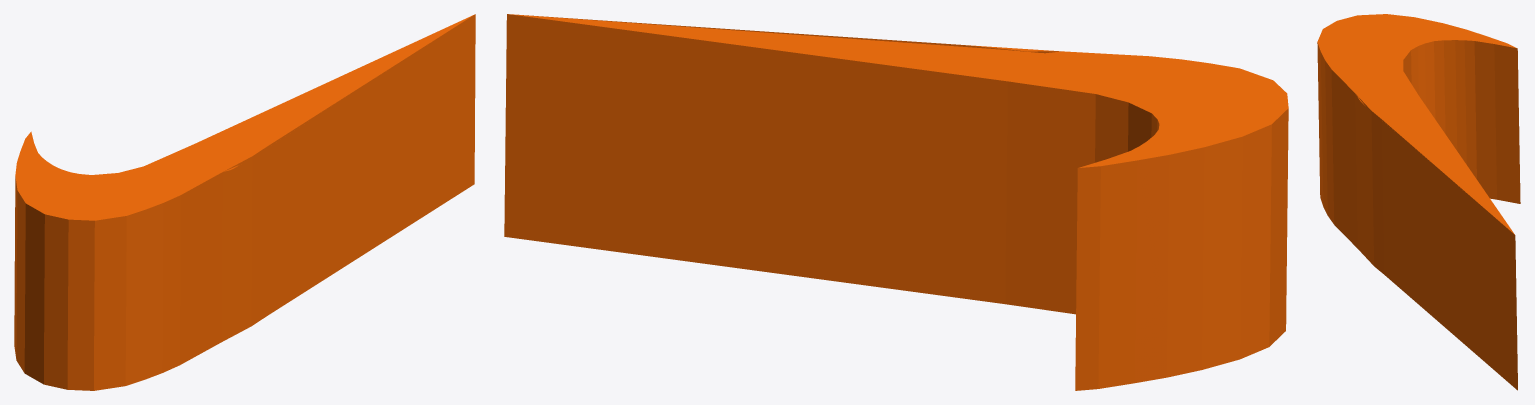
The model's file is nike.glb.
3 views of the same model, side by side, from view 1: azimuth 30°, elevation 25°; view 2: azimuth 150°, elevation 25°; view 3: azimuth 270°, elevation 25° (orthographic). The views are drawn at different scales.
Parts seen in each view (by area): view 1: Cube; view 2: Cube; view 3: Cube.
Part boxes in pixels (<box>): Cube: <box>14,14,475,390</box>; Cube: <box>504,14,1288,390</box>; Cube: <box>1317,14,1520,390</box>.
Size of the model in its own units: 4.43 by 1.48 by 1.65.
